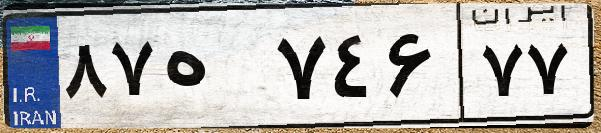4: (330, 28, 385, 110)
6: (385, 28, 445, 110)
7: (270, 28, 330, 110), (475, 38, 525, 113), (525, 38, 570, 115), (110, 28, 158, 98)
8: (57, 26, 110, 100)
ه: (158, 20, 270, 120)
